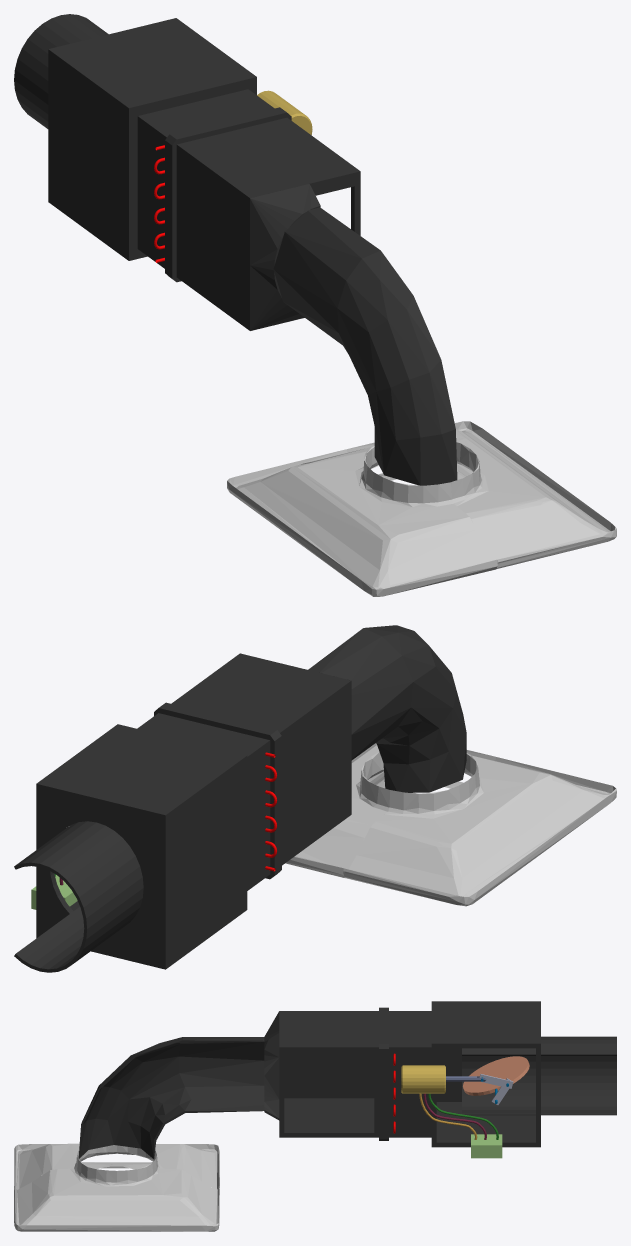
The model's file is diffuser.obj.
3 renders of one model, top to bottom at view 1: azimuth 30°, elevation 25°; view 2: azimuth 150°, elevation 25°; view 3: azimuth 270°, elevation 25°, orthographic. The views are drawn at different scales.
Visible parts, largest first — view 1: Diffuser08_Diffuser; view 2: Diffuser08_Diffuser; view 3: Diffuser08_Diffuser.
Part boxes in pixels (left/top/right/bottom): Diffuser08_Diffuser: left=14, top=14, right=616, bottom=596; Diffuser08_Diffuser: left=14, top=625, right=616, bottom=972; Diffuser08_Diffuser: left=14, top=1001, right=616, bottom=1231.
Size of the model in its own units: 0.966 by 1.03 by 3.01.
